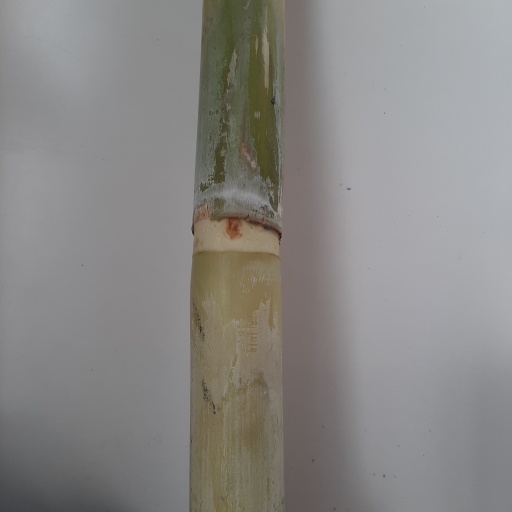Damage_Bud: (222, 217, 243, 241)
